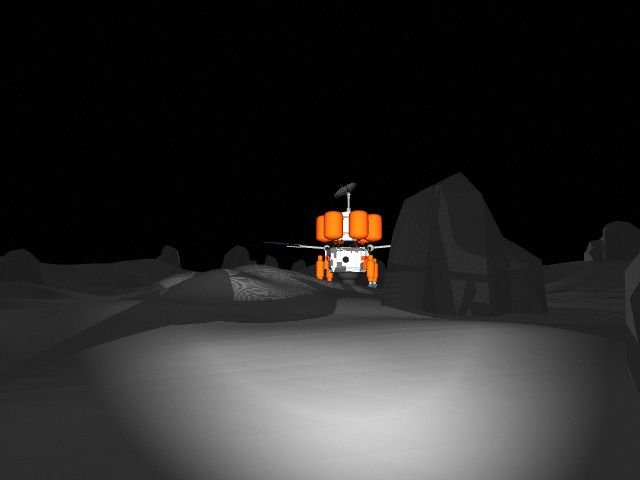homebase: (255, 181, 434, 291)
